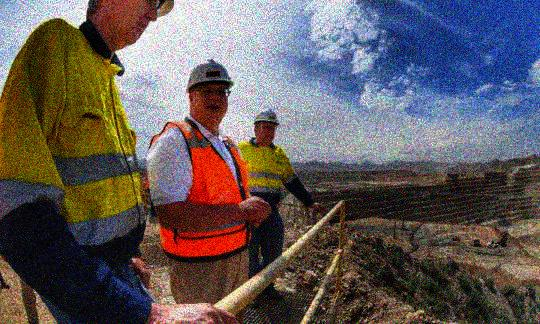helmet: (86, 1, 175, 49), (186, 59, 234, 124), (251, 106, 280, 145)
